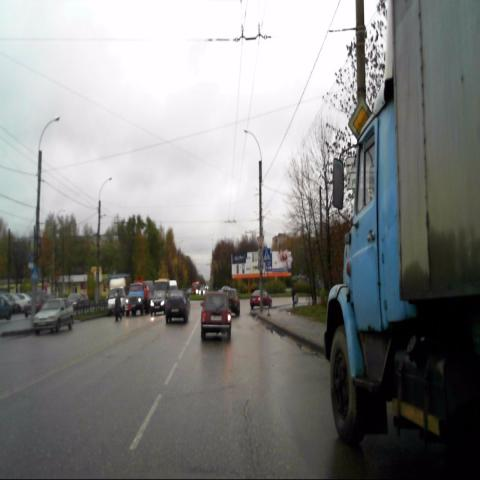2_2: (349, 99, 374, 146)
